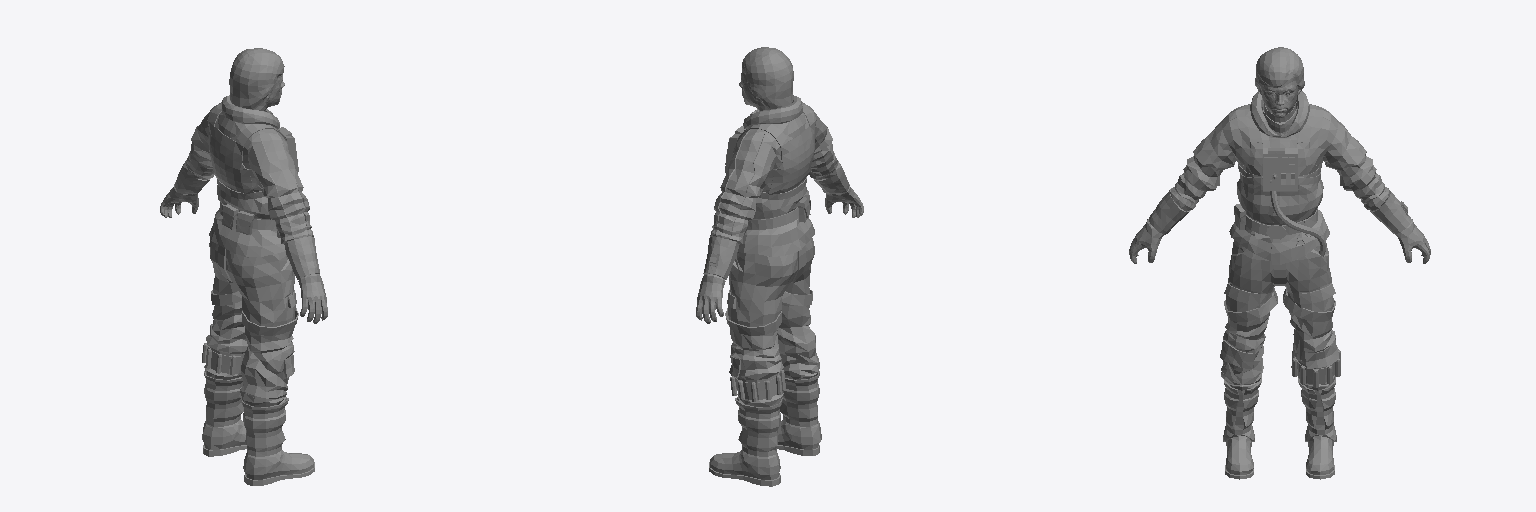
Rendered from REB_lukePilot.obj.
3 views of the same model, side by side, from view 1: azimuth 30°, elevation 25°; view 2: azimuth 150°, elevation 25°; view 3: azimuth 270°, elevation 25° (orthographic).
Parts seen in each view (by area): view 1: ex_LOD0exportPreppedShape1_1, ex_LOD0exportPreppedShape1_2, ex_LOD0exportPreppedShape1_3, ex_LOD0exportPreppedShape1_5, ex_LOD0exportPreppedShape1_6, ex_LOD0exportPreppedShape1_0, ex_LOD0exportPreppedShape1_4; view 2: ex_LOD0exportPreppedShape1_1, ex_LOD0exportPreppedShape1_2, ex_LOD0exportPreppedShape1_4, ex_LOD0exportPreppedShape1_3, ex_LOD0exportPreppedShape1_6, ex_LOD0exportPreppedShape1_0, ex_LOD0exportPreppedShape1_5; view 3: ex_LOD0exportPreppedShape1_1, ex_LOD0exportPreppedShape1_2, ex_LOD0exportPreppedShape1_0, ex_LOD0exportPreppedShape1_3, ex_LOD0exportPreppedShape1_4, ex_LOD0exportPreppedShape1_5, ex_LOD0exportPreppedShape1_6.
Boxes of the visible parts, x1=… form: ex_LOD0exportPreppedShape1_1: x1=160, y1=128, x2=298, y2=456; ex_LOD0exportPreppedShape1_2: x1=175, y1=95, x2=319, y2=279; ex_LOD0exportPreppedShape1_3: x1=241, y1=274, x2=327, y2=485; ex_LOD0exportPreppedShape1_5: x1=248, y1=139, x2=313, y2=243; ex_LOD0exportPreppedShape1_6: x1=229, y1=48, x2=284, y2=110; ex_LOD0exportPreppedShape1_0: x1=202, y1=127, x2=298, y2=375; ex_LOD0exportPreppedShape1_4: x1=183, y1=108, x2=214, y2=179; ex_LOD0exportPreppedShape1_1: x1=696, y1=129, x2=819, y2=486; ex_LOD0exportPreppedShape1_2: x1=703, y1=96, x2=849, y2=279; ex_LOD0exportPreppedShape1_4: x1=710, y1=139, x2=775, y2=244; ex_LOD0exportPreppedShape1_3: x1=777, y1=184, x2=863, y2=455; ex_LOD0exportPreppedShape1_6: x1=739, y1=47, x2=793, y2=110; ex_LOD0exportPreppedShape1_0: x1=725, y1=126, x2=810, y2=401; ex_LOD0exportPreppedShape1_5: x1=809, y1=108, x2=840, y2=179; ex_LOD0exportPreppedShape1_1: x1=1220, y1=131, x2=1430, y2=479; ex_LOD0exportPreppedShape1_2: x1=1149, y1=91, x2=1411, y2=264; ex_LOD0exportPreppedShape1_0: x1=1234, y1=148, x2=1340, y2=387; ex_LOD0exportPreppedShape1_3: x1=1129, y1=219, x2=1261, y2=479; ex_LOD0exportPreppedShape1_4: x1=1323, y1=111, x2=1389, y2=211; ex_LOD0exportPreppedShape1_5: x1=1170, y1=111, x2=1236, y2=211; ex_LOD0exportPreppedShape1_6: x1=1255, y1=47, x2=1304, y2=117.
Size of the model in its own units: 7.45 by 37.35 by 24.76.